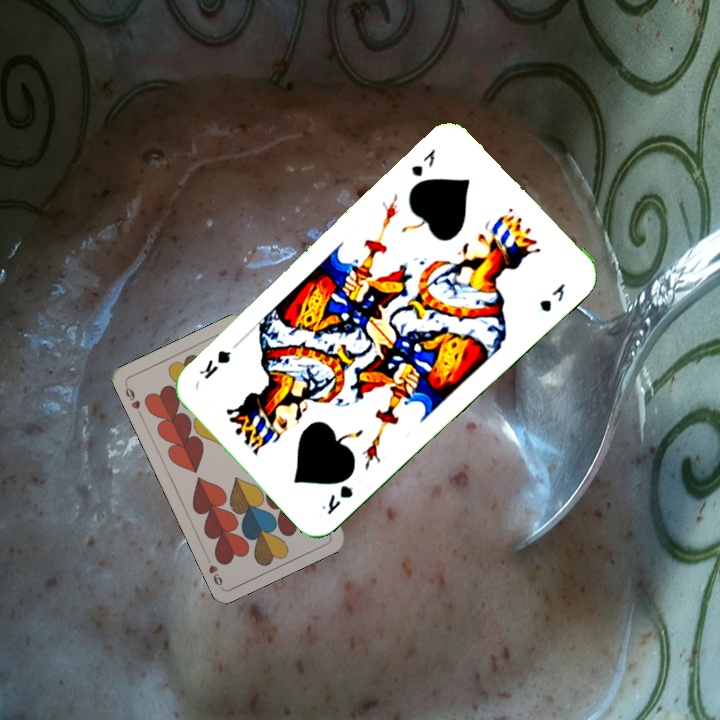GK: (317, 480, 356, 518), (407, 144, 438, 179)
H9: (121, 380, 144, 418)
